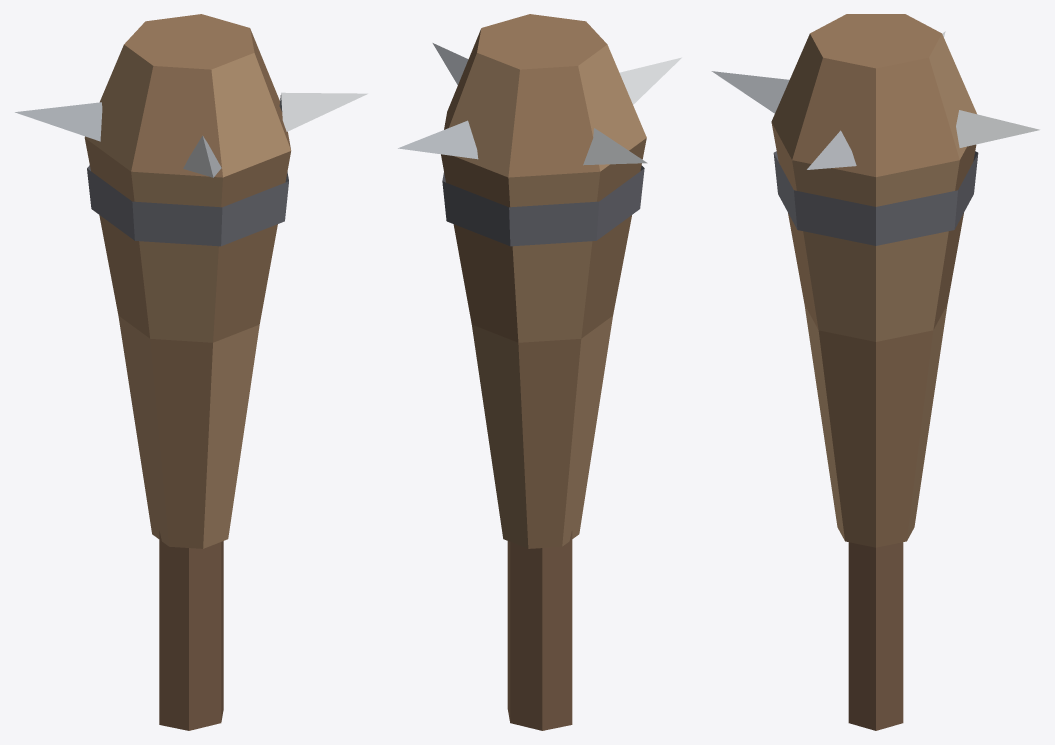
The model's file is club.glb.
3 renders of one model, left to right at view 1: azimuth 30°, elevation 25°; view 2: azimuth 150°, elevation 25°; view 3: azimuth 270°, elevation 25°, orthographic.
Visible parts, largest first — view 1: club; view 2: club; view 3: club.
Boxes of the visible parts, <box> form: club: <box>15,14,367,730</box>; club: <box>398,14,681,730</box>; club: <box>711,14,1039,730</box>.
Bounding box in the file's own units: 0.5838 × 1.32 × 0.5838.
